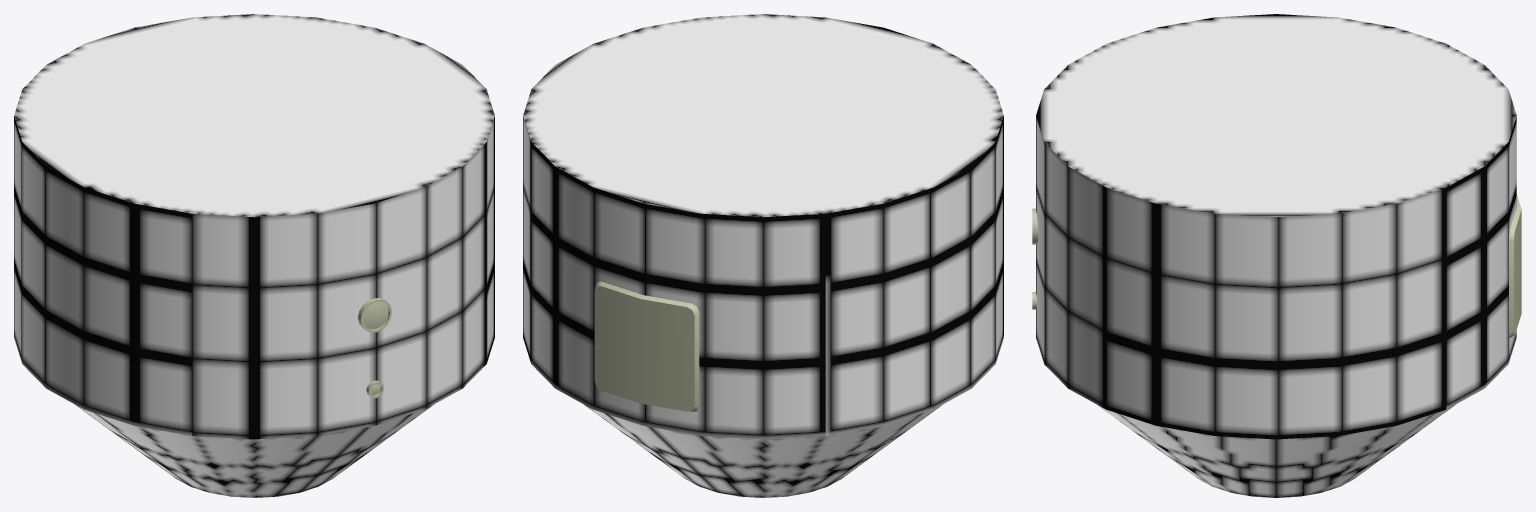
The model's file is Acamar_Lab_1_Interior.obj.
The picture shows the model from 3 angles, left to right: view 1: azimuth 30°, elevation 25°; view 2: azimuth 150°, elevation 25°; view 3: azimuth 270°, elevation 25°; orthographic projection.
Visible parts, largest first — view 1: Acamar_Lab_1_Interior, Acamar_Lab_1_Mask; view 2: Acamar_Lab_1_Interior, Acamar_Lab_1_Mask; view 3: Acamar_Lab_1_Interior, Acamar_Lab_1_Mask.
Boxes of the visible parts, left/top/right/bottom form: Acamar_Lab_1_Interior: left=14, top=14, right=494, bottom=497; Acamar_Lab_1_Mask: left=358, top=298, right=391, bottom=398; Acamar_Lab_1_Interior: left=523, top=14, right=1003, bottom=497; Acamar_Lab_1_Mask: left=594, top=281, right=699, bottom=412; Acamar_Lab_1_Interior: left=1036, top=14, right=1516, bottom=497; Acamar_Lab_1_Mask: left=1032, top=194, right=1521, bottom=337.
Size of the model in its own units: 2.5 by 1.98 by 2.54.
2 materials, 1 textured.
